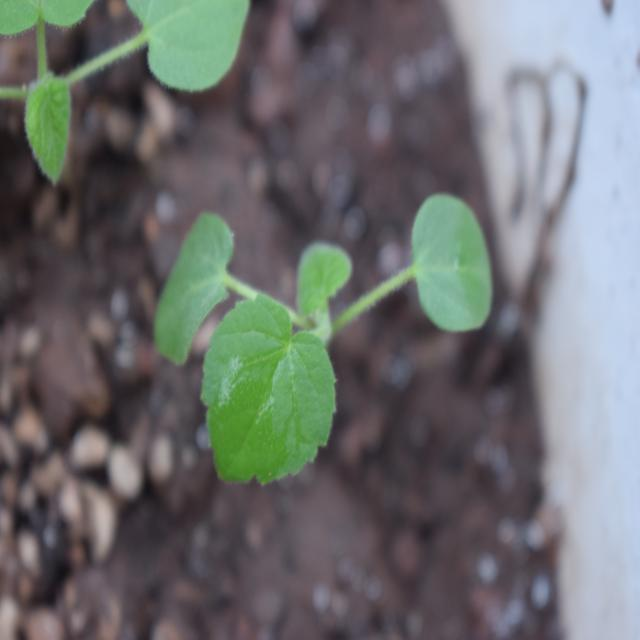abutilon theophrasti: (162, 179, 498, 508)
